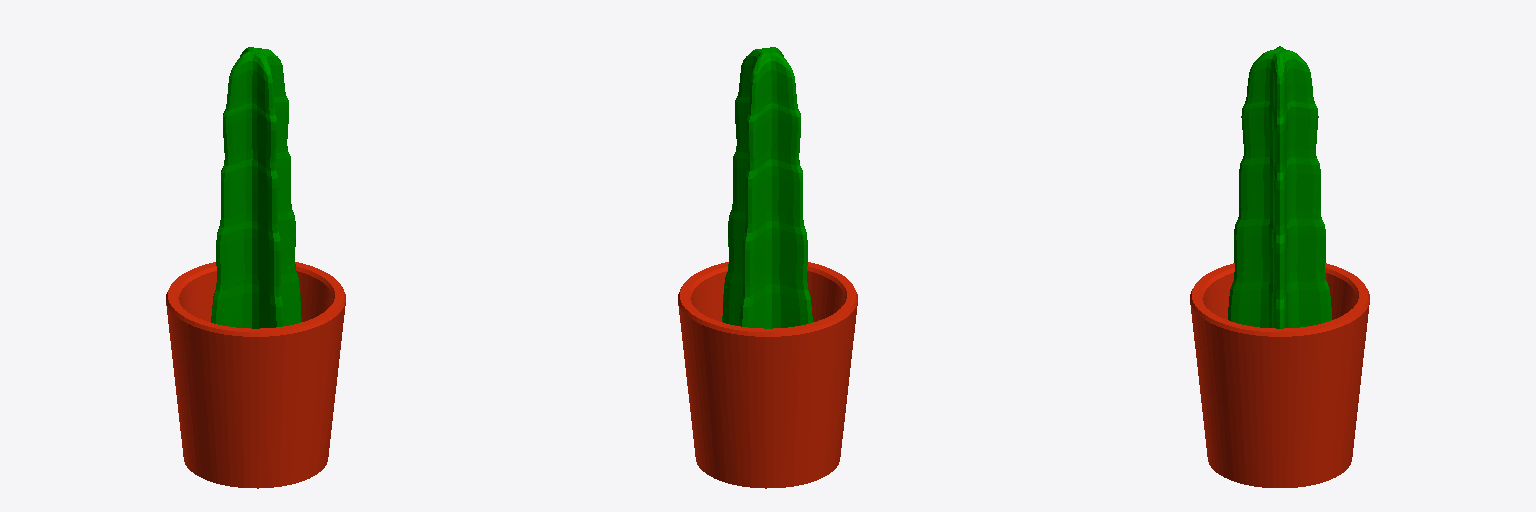
File: player.obj
The picture shows the model from 3 angles: view 1: azimuth 30°, elevation 25°; view 2: azimuth 150°, elevation 25°; view 3: azimuth 270°, elevation 25°; orthographic projection.
Parts seen in each view (by area): view 1: Cactus_Cube.001; view 2: Cactus_Cube.001; view 3: Cactus_Cube.001.
Boxes of the visible parts, x1=… form: Cactus_Cube.001: x1=166, y1=47, x2=345, y2=488; Cactus_Cube.001: x1=678, y1=47, x2=857, y2=488; Cactus_Cube.001: x1=1190, y1=46, x2=1369, y2=487.
Bounding box in the file's own units: 0.6098 × 1.53 × 0.6098.